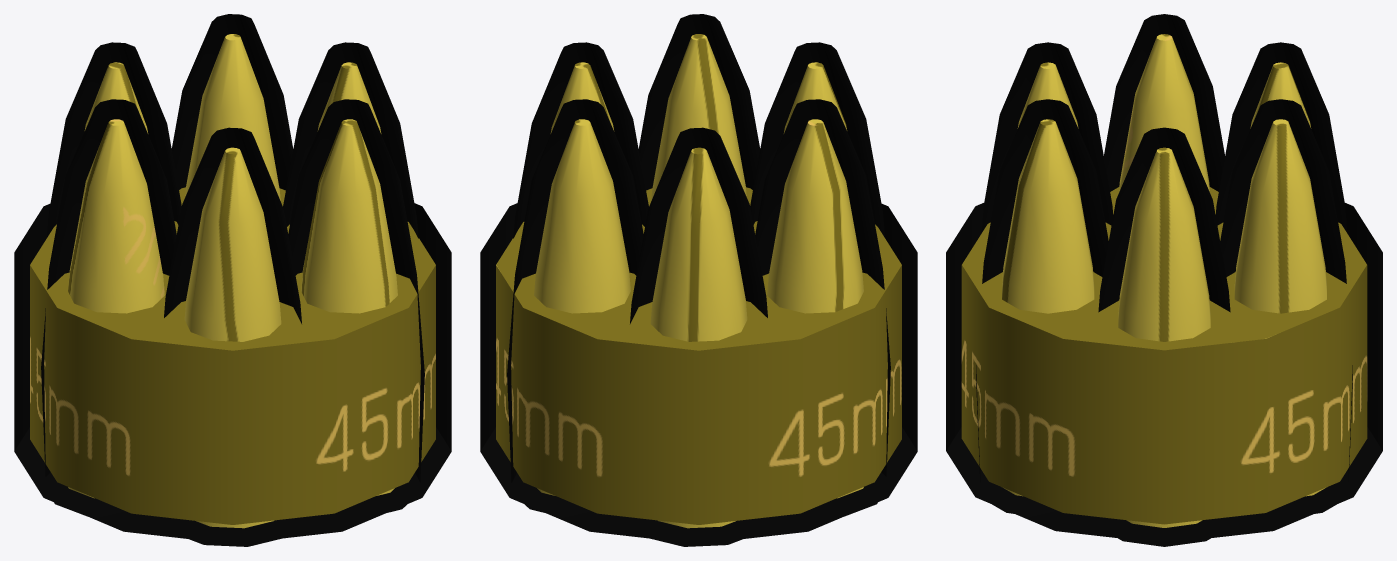
File: ammo_45mm.fbx
3 views of the same model, side by side, from view 1: azimuth 30°, elevation 25°; view 2: azimuth 150°, elevation 25°; view 3: azimuth 270°, elevation 25° (orthographic).
Parts seen in each view (by area): view 1: pCylinder26 (×2); view 2: pCylinder26 (×2); view 3: pCylinder26 (×2).
Boxes of the visible parts, left/top/right/bottom form: pCylinder26 (×2): left=14, top=14, right=451, bottom=546; pCylinder26 (×2): left=480, top=14, right=917, bottom=546; pCylinder26 (×2): left=946, top=14, right=1382, bottom=546.
Size of the model in its own units: 9.26 by 9.16 by 9.26.
2 materials, 1 textured.
